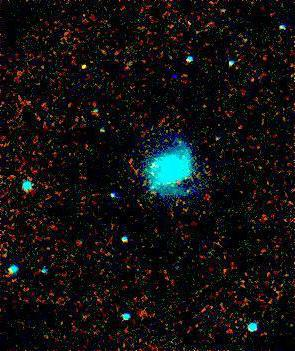star: (69, 52, 99, 82)
